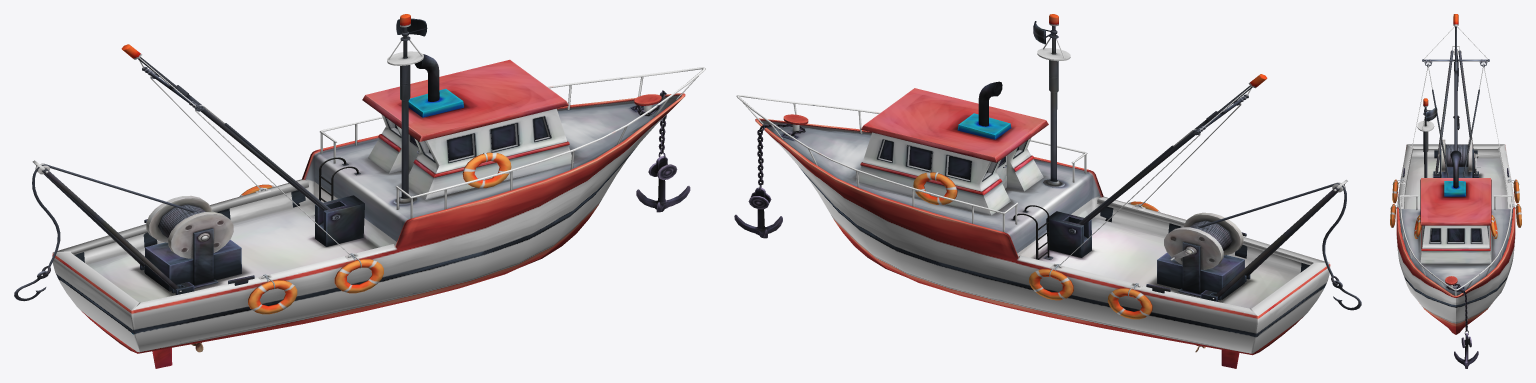
File: fishingboat.glb
3 views of the same model, side by side, from view 1: azimuth 30°, elevation 25°; view 2: azimuth 150°, elevation 25°; view 3: azimuth 270°, elevation 25° (orthographic). The views are drawn at different scales.
Parts seen in each view (by area): view 1: node_id79_3, node_id77_2; view 2: node_id79_3, node_id77_2; view 3: node_id79_3, node_id77_2.
Part boxes in pixels (bbox=[...]): node_id79_3: bbox=[52, 76, 698, 353]; node_id77_2: bbox=[14, 14, 705, 368]; node_id79_3: bbox=[734, 103, 1330, 355]; node_id77_2: bbox=[736, 14, 1361, 368]; node_id79_3: bbox=[1390, 144, 1521, 368]; node_id77_2: bbox=[1390, 14, 1521, 290].
Size of the model in its own units: 1.44 by 0.6582 by 0.3843.
2 materials, 2 textured.
